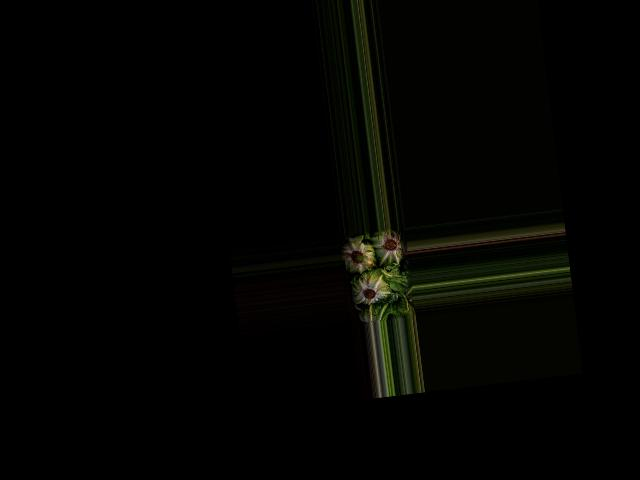lettuce: (370, 228, 405, 267)
